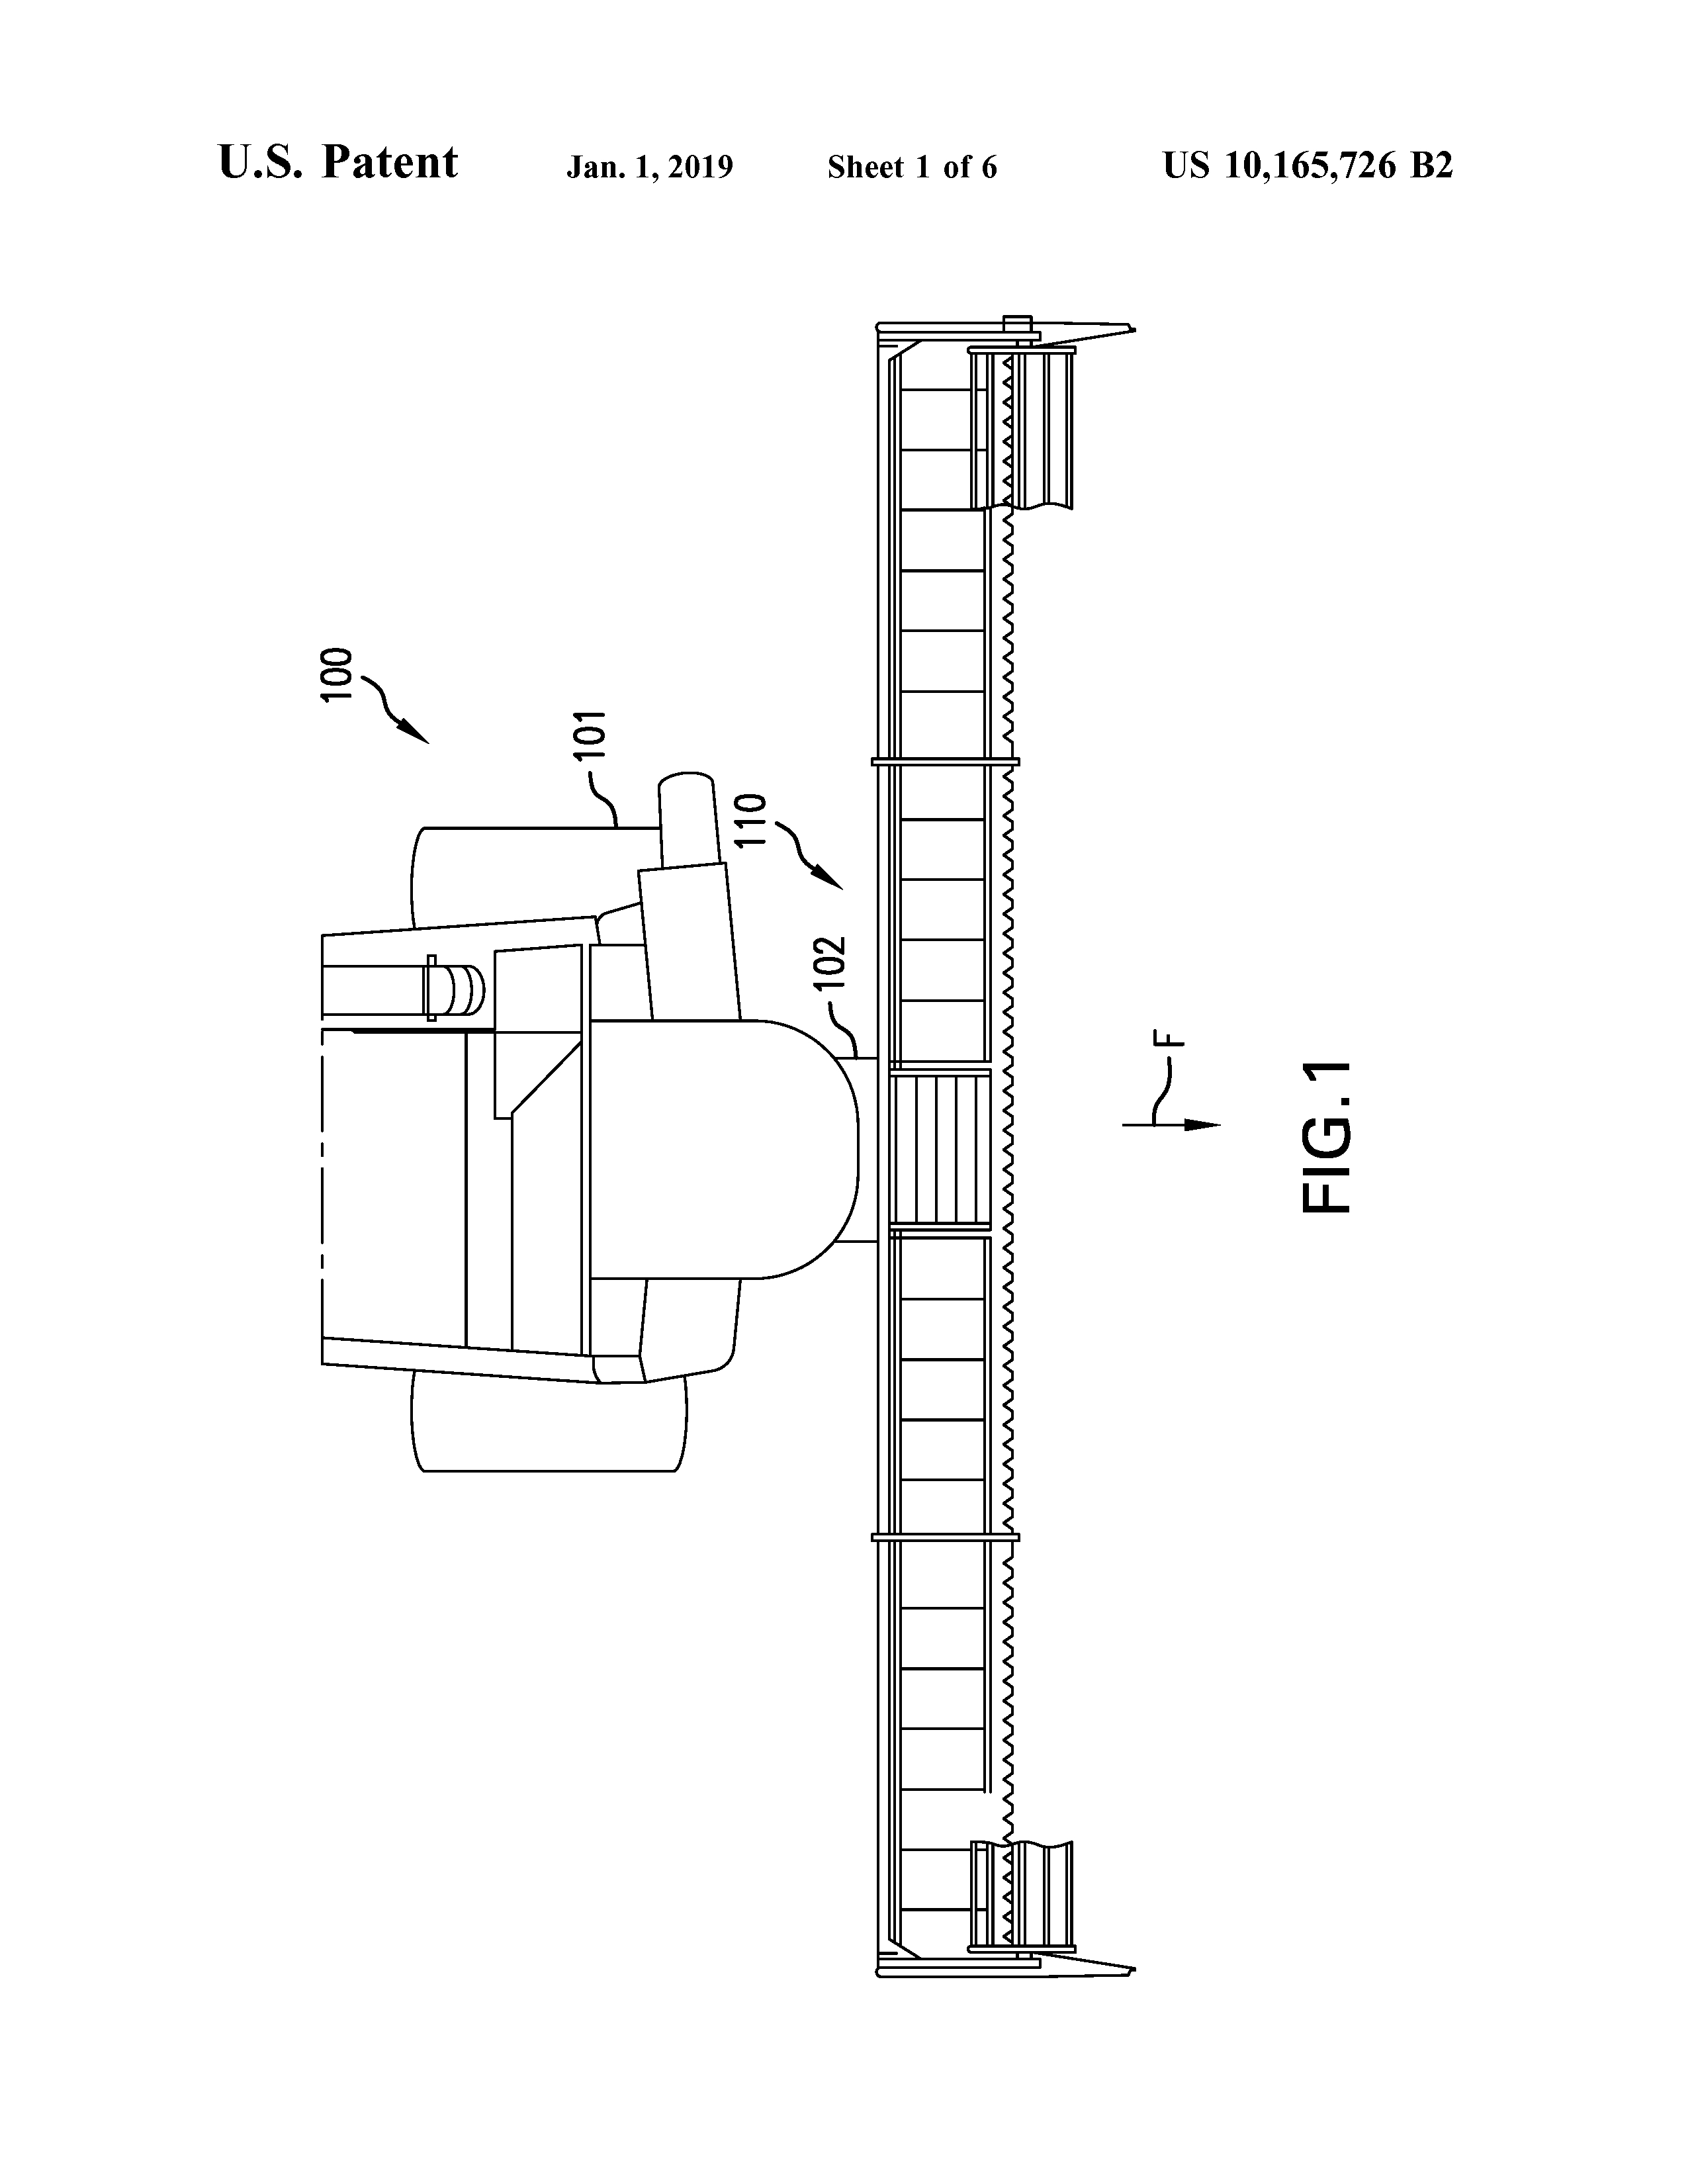patent image: (273, 276, 1449, 2052)
